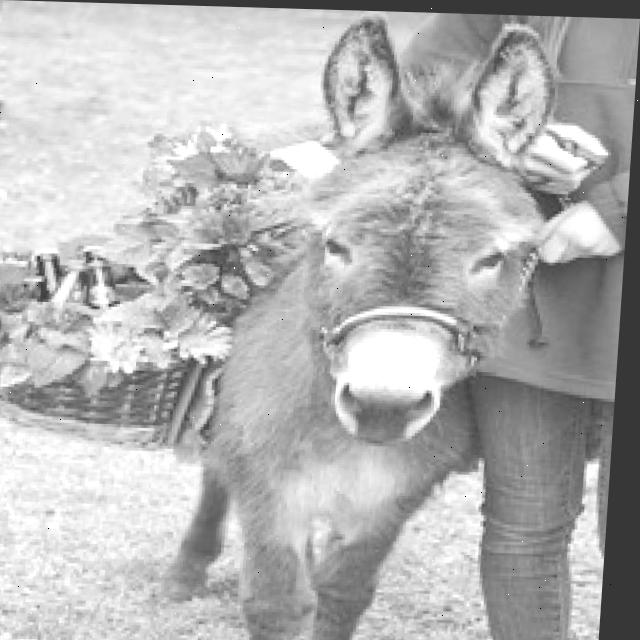Donkey: (152, 6, 600, 640)
